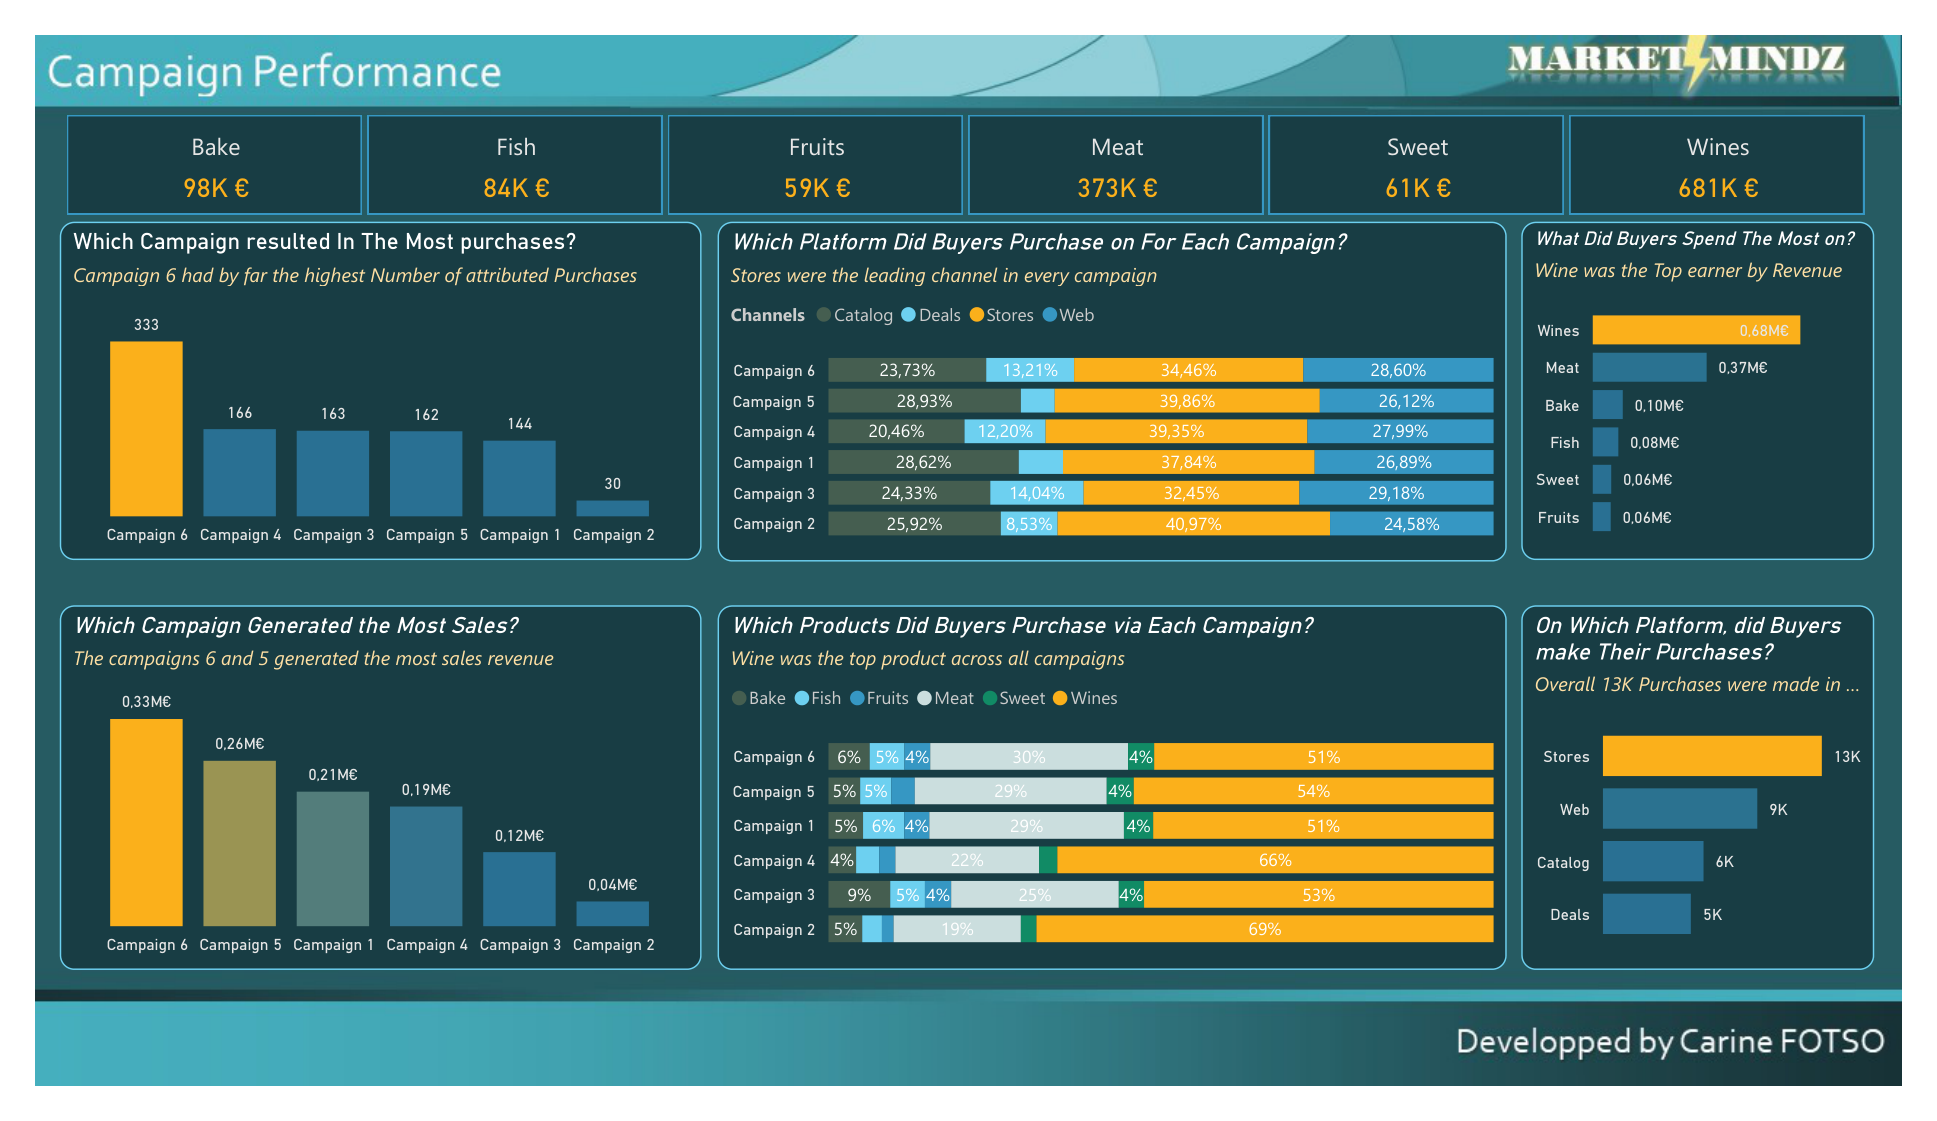

The dashboard page shown, as its layout file describes it:
{"tool":"powerbi","page":{"name":"Campaign performance","canvas":[1280,720],"ordinal":1},"visuals":[{"type":"clusteredColumnChart","title":"Which Campaign resulted In The Most purchases?","fields":{"Category":["Campaign.Campaign"],"Y":["Sum(Campaign.Accepted_Ind)"]},"box":[16.5,128.4,440.6,231.5],"z":0},{"type":"hundredPercentStackedBarChart","title":"Which Products Did  Buyers Purchase via Each Campaign?","fields":{"Category":["Campaign.Campaign"],"Series":["Products.products"],"Y":["Sum(Products.Total Sales)"]},"box":[467.8,391,540.8,250],"z":1000},{"type":"columnChart","title":"Which Campaign Generated the Most Sales?","fields":{"Category":["Campaign.Campaign"],"Y":["Sum(Products.Total Sales)"]},"box":[16.5,391,440.6,250],"z":2000},{"type":"barChart","title":"What Did Buyers Spend The Most on?","fields":{"Category":["Products.products"],"Y":["Sum(Products.Total Sales)"]},"box":[1019.3,128.4,241.2,231.5],"z":3000},{"type":"hundredPercentStackedBarChart","title":"Which Platform Did Buyers  Purchase on For Each Campaign?","fields":{"Category":["Campaign.Campaign"],"Series":["Canal.Canals"],"Y":["Sum(Canal.Qtity)"]},"box":[467.8,128.4,540.8,232.5],"z":4000},{"type":"barChart","title":"On Which Platform, did Buyers make Their Purchases?","fields":{"Category":["Canal.Canals"],"Y":["Sum(Canal.Qtity)"]},"box":[1019.3,391,241.2,250],"z":5000},{"type":"cardVisual","fields":{"Data":["Sum(Marketing_data.Amount Bake products)","Sum(Marketing_data.Amount Fish Products)","Sum(Marketing_data.Amount Fruits products)","Sum(Marketing_data.Amount Meat Products)","Sum(Marketing_data.Amount Sweet products)","Sum(Marketing_data.Amount Wines products)"]},"box":[16.5,49.6,1244,78.8],"z":6000}]}

Visuals, with their boxes in screenshot pixels (x1, y1, x2, y2), scaled from the page's 1280x720 canvas onto the 1937x1121 screenshot:
"Which Campaign resulted In The Most purchases?" clusteredColumnChart: Rect(25, 200, 692, 560)
"Which Products Did  Buyers Purchase via Each Campaign?" hundredPercentStackedBarChart: Rect(708, 609, 1526, 998)
"Which Campaign Generated the Most Sales?" columnChart: Rect(25, 609, 692, 998)
"What Did Buyers Spend The Most on?" barChart: Rect(1542, 200, 1907, 560)
"Which Platform Did Buyers  Purchase on For Each Campaign?" hundredPercentStackedBarChart: Rect(708, 200, 1526, 562)
"On Which Platform, did Buyers make Their Purchases?" barChart: Rect(1542, 609, 1907, 998)
cardVisual - Sum(Marketing_data.Amount Bake products) x Sum(Marketing_data.Amount Fish Products): Rect(25, 77, 1907, 200)
